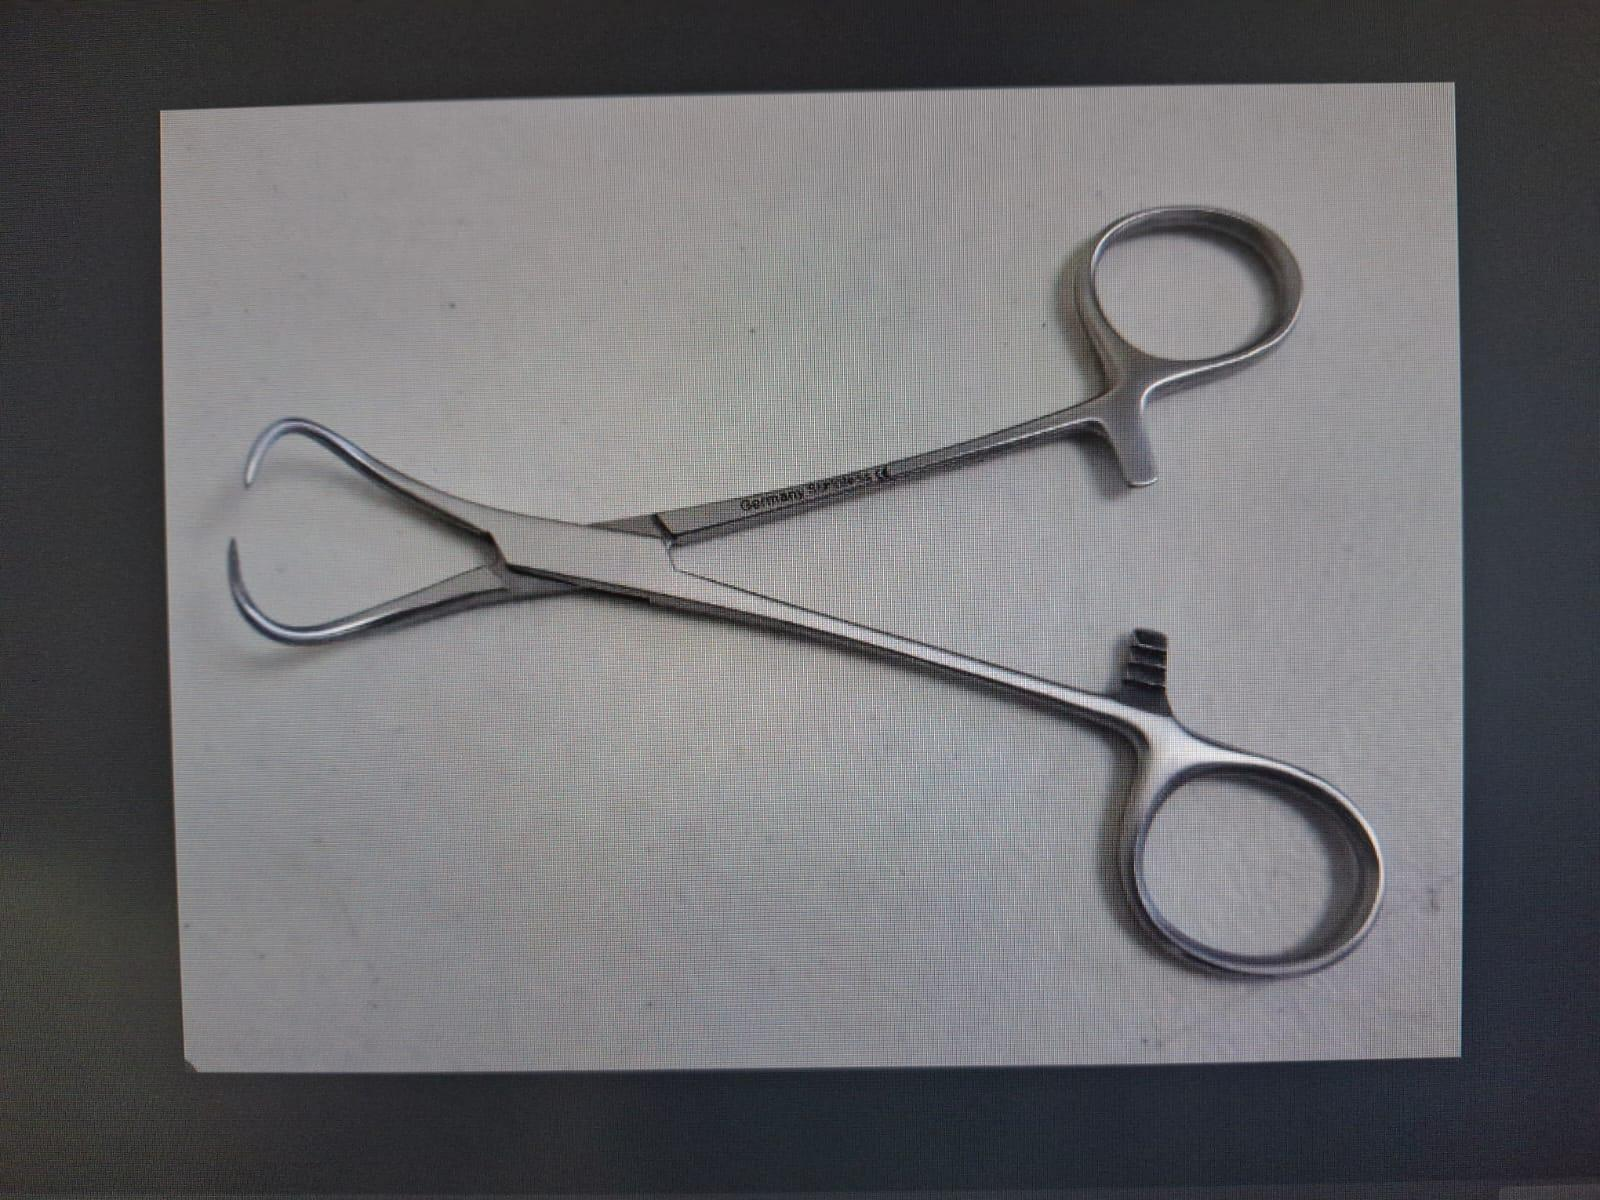Backhaus: (194, 194, 1408, 990)
